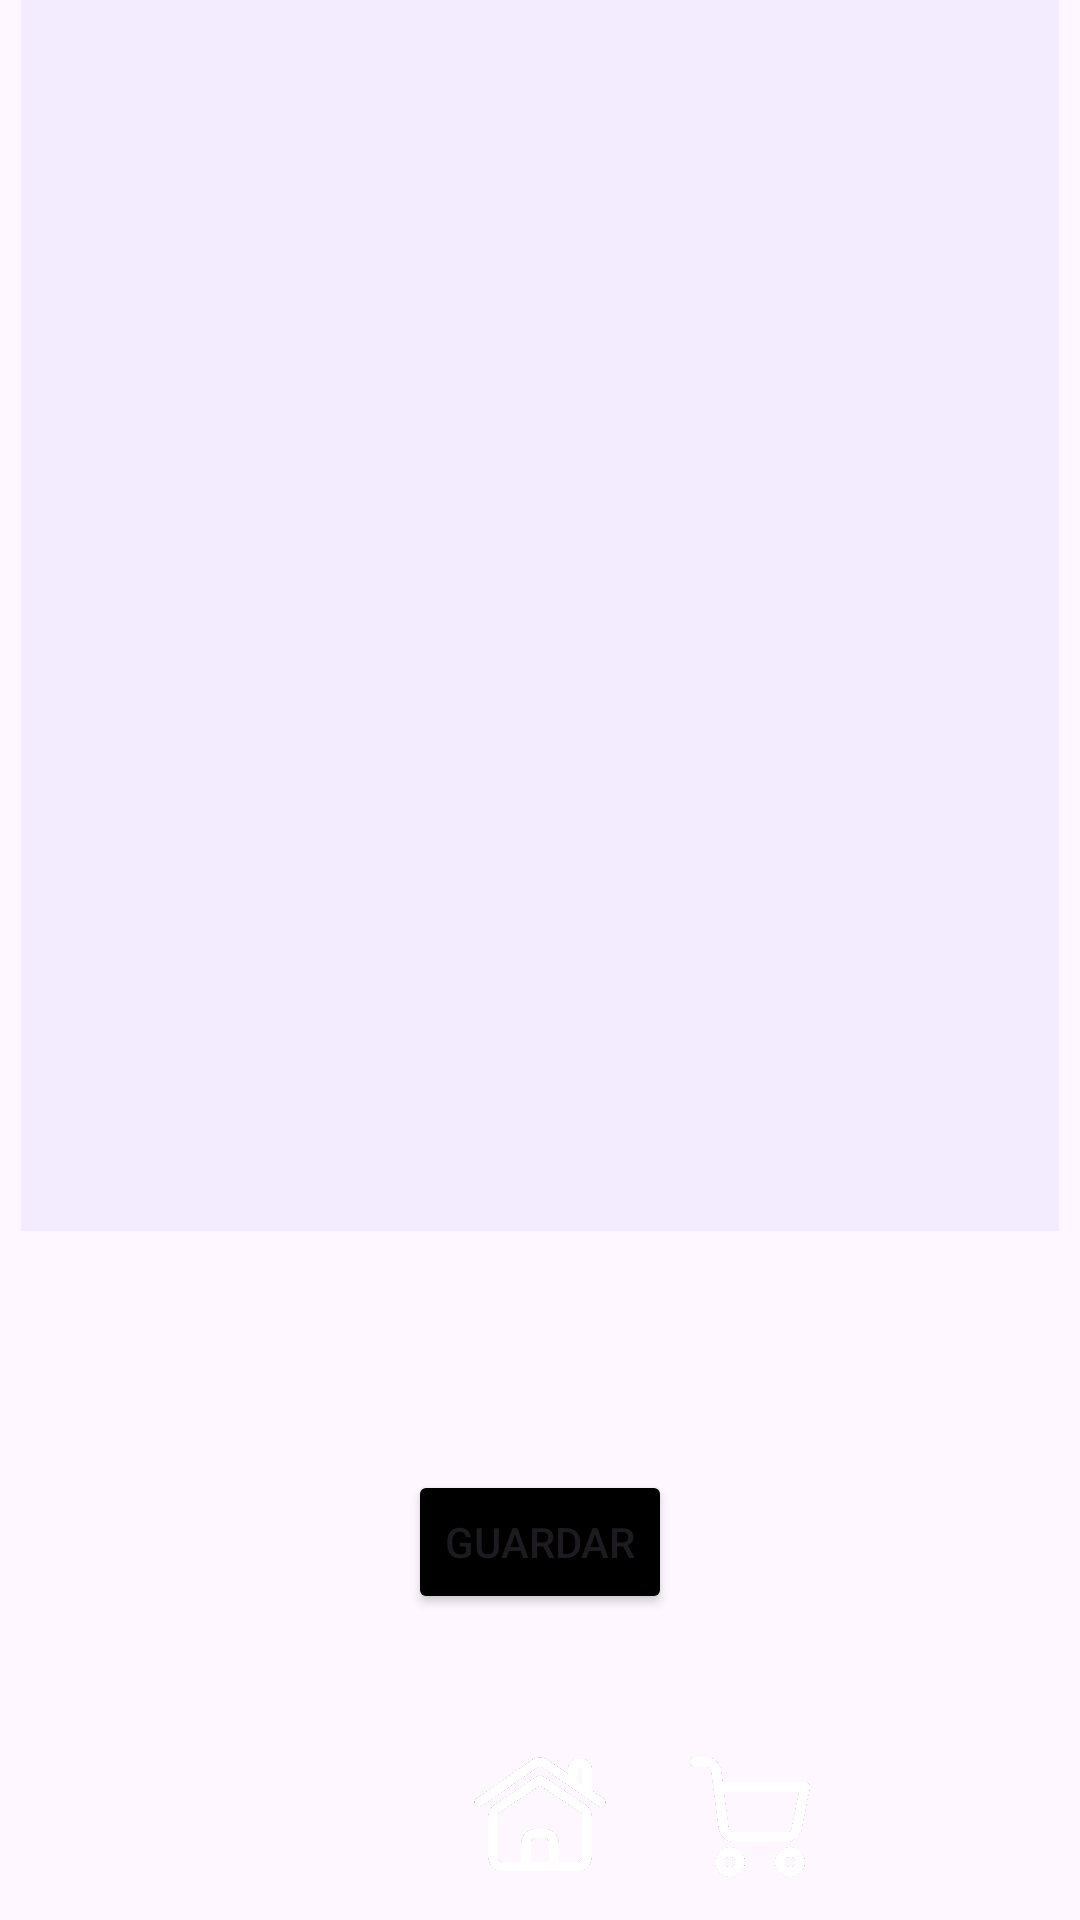

Screen size 1080*1920. Icon name, then its center in pixels as (x,y):
carrito: (750,1812)
home: (540,1811)
